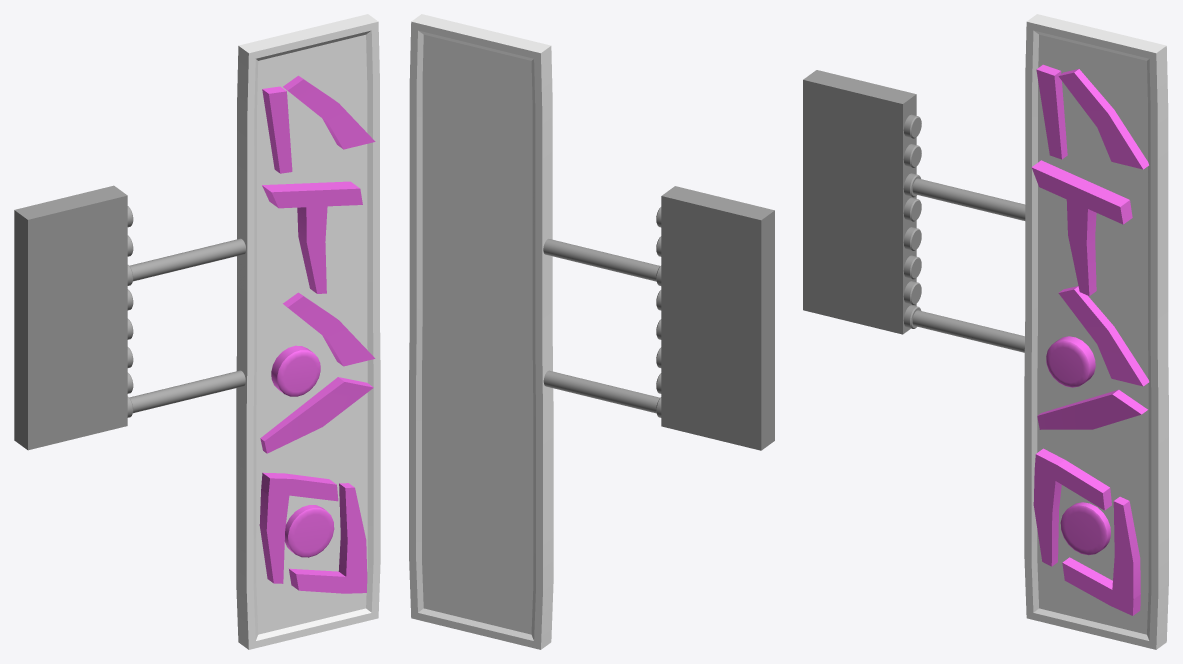
Rendered from Sign_02.fbx.
The picture shows the model from 3 angles, left to right: view 1: azimuth 30°, elevation 25°; view 2: azimuth 150°, elevation 25°; view 3: azimuth 330°, elevation 25°; orthographic projection.
Visible parts, largest first — view 1: group2; view 2: group2; view 3: group2.
Part boxes in pixels (left/top/right/bottom): group2: left=14, top=14, right=380, bottom=649; group2: left=409, top=14, right=774, bottom=649; group2: left=803, top=14, right=1168, bottom=649.
Bounding box in the file's own units: 2563 × 4126 × 266.
